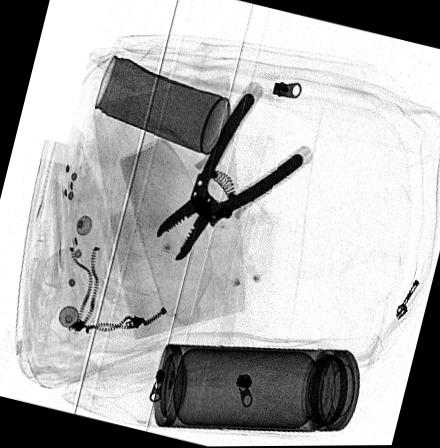Pliers: (154, 89, 302, 261)
